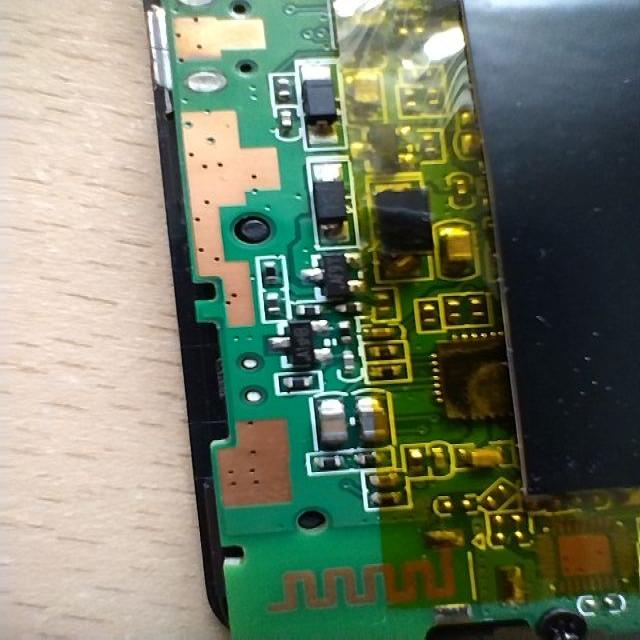capacitor: (342, 67, 387, 125), (434, 219, 482, 272), (314, 396, 354, 455), (461, 444, 513, 474), (356, 394, 383, 449), (358, 320, 405, 340), (362, 473, 405, 488)
resistor: (306, 451, 348, 476), (372, 360, 409, 388), (255, 255, 286, 286), (365, 494, 408, 516), (269, 71, 295, 102), (278, 372, 318, 391), (258, 290, 285, 318), (469, 292, 490, 327), (421, 296, 441, 332), (274, 111, 298, 140), (333, 318, 357, 346), (368, 346, 403, 360), (446, 298, 461, 330), (294, 303, 322, 320)
